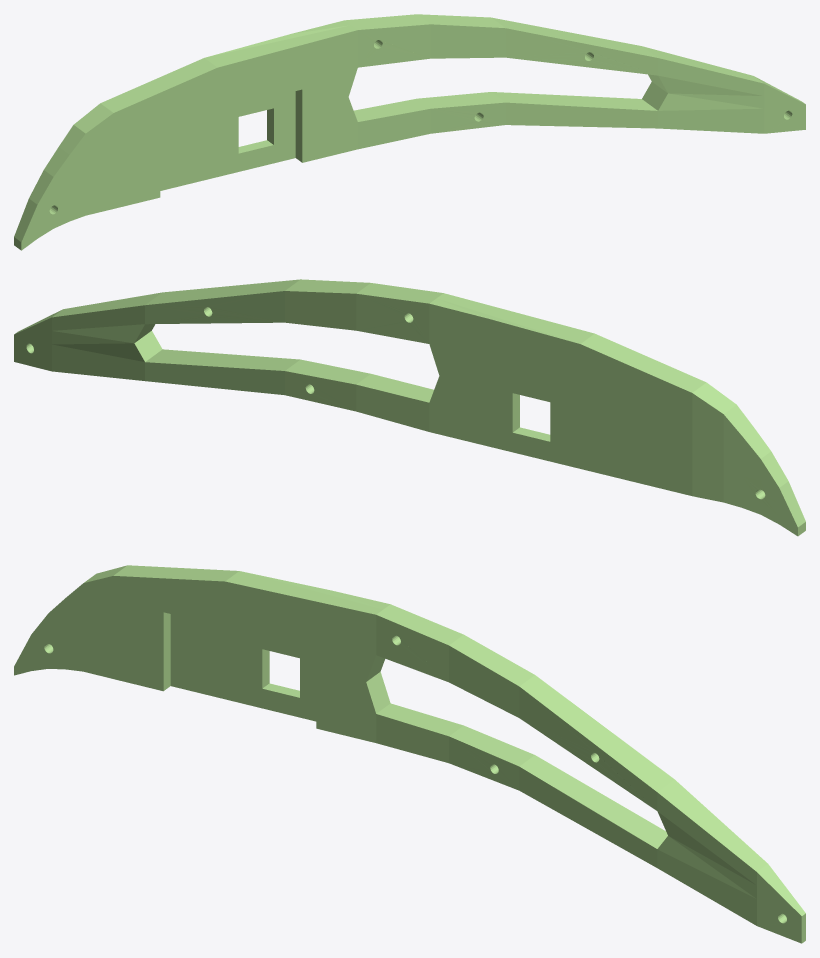
The model's file is Piece 9.obj.
The picture shows the model from 3 angles, top to bottom: view 1: azimuth 30°, elevation 25°; view 2: azimuth 150°, elevation 25°; view 3: azimuth 330°, elevation 25°; orthographic projection. The views are drawn at different scales.
Parts seen in each view (by area): view 1: Object.1; view 2: Object.1; view 3: Object.1.
Part boxes in pixels (<box>): Object.1: <box>14,14,805,250</box>; Object.1: <box>14,279,805,536</box>; Object.1: <box>14,565,805,943</box>.
Size of the model in its own units: 216 by 49.93 by 19.63.
